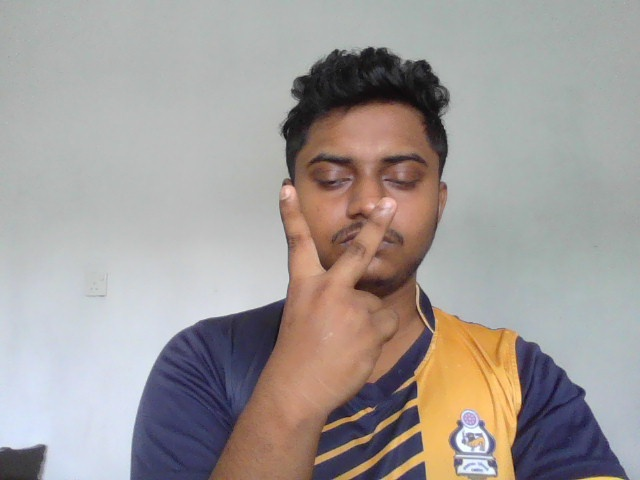See You: (256, 184, 399, 408)
